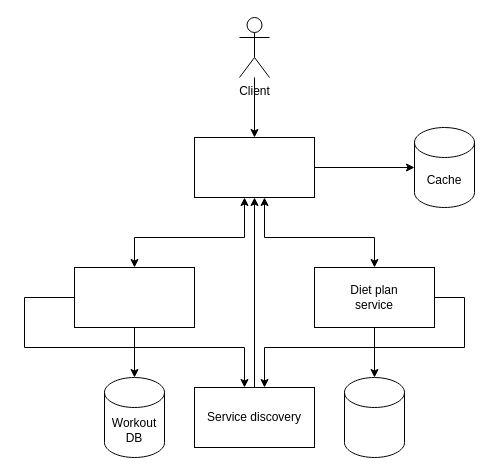
This 492x475 diagram has some shape labels left out. Here are the shapes that lost their labels. From the top down, the centre of each, then its label:
the point at 254,167: API Gateway Load balancer
the point at 134,297: Workout plan service
the point at 374,417: Diet DB
